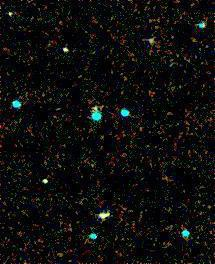star: (92, 202, 122, 232)
